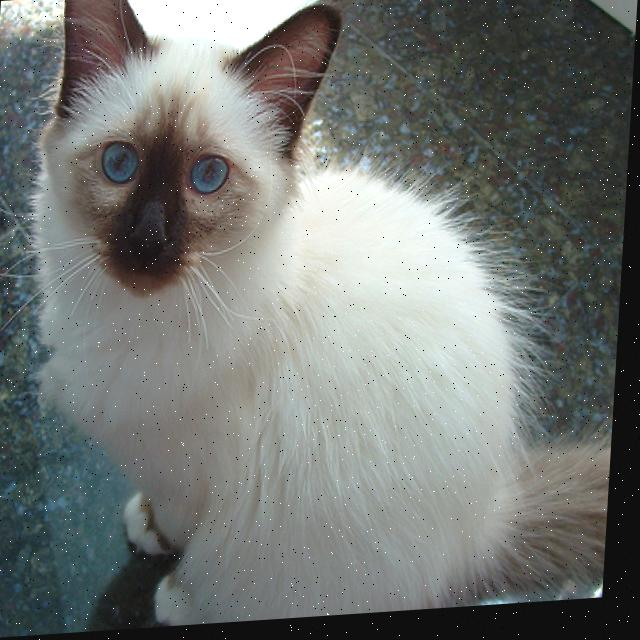Birman: (14, 0, 640, 638)
